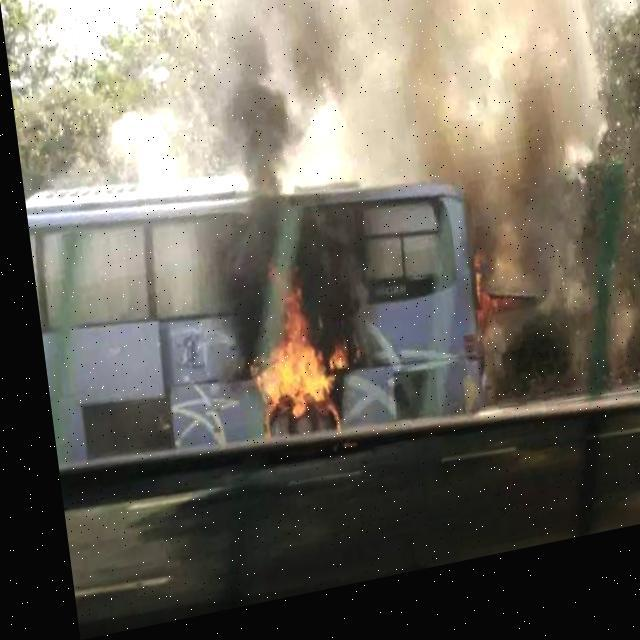Fire: (232, 284, 352, 457)
